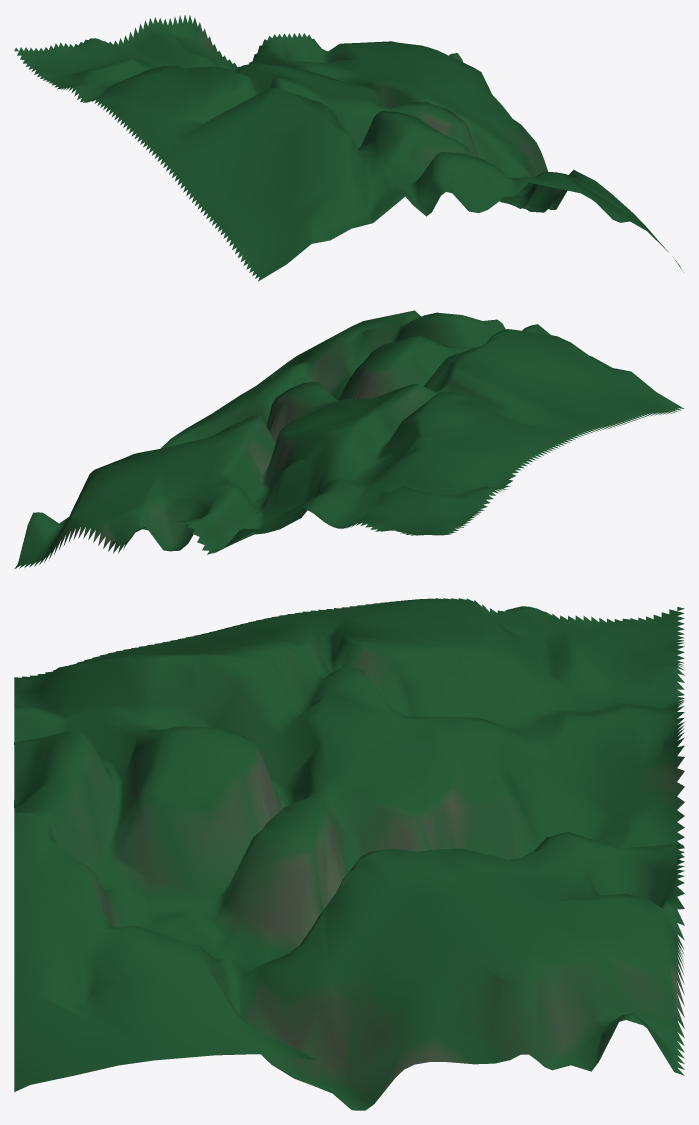
Rendered from payo_land_x1_y2_lod2.glb.
3 renders of one model, top to bottom at view 1: azimuth 30°, elevation 25°; view 2: azimuth 150°, elevation 25°; view 3: azimuth 270°, elevation 25°, orthographic. The views are drawn at different scales.
Parts seen in each view (by area): view 1: payo_land_x1_y2; view 2: payo_land_x1_y2; view 3: payo_land_x1_y2.
Boxes of the visible parts, x1,y1,x2,y2 form: payo_land_x1_y2: (14,15,683,281); payo_land_x1_y2: (14,310,683,568); payo_land_x1_y2: (14,598,684,1110).
Size of the model in its own units: 258 by 113 by 258.
